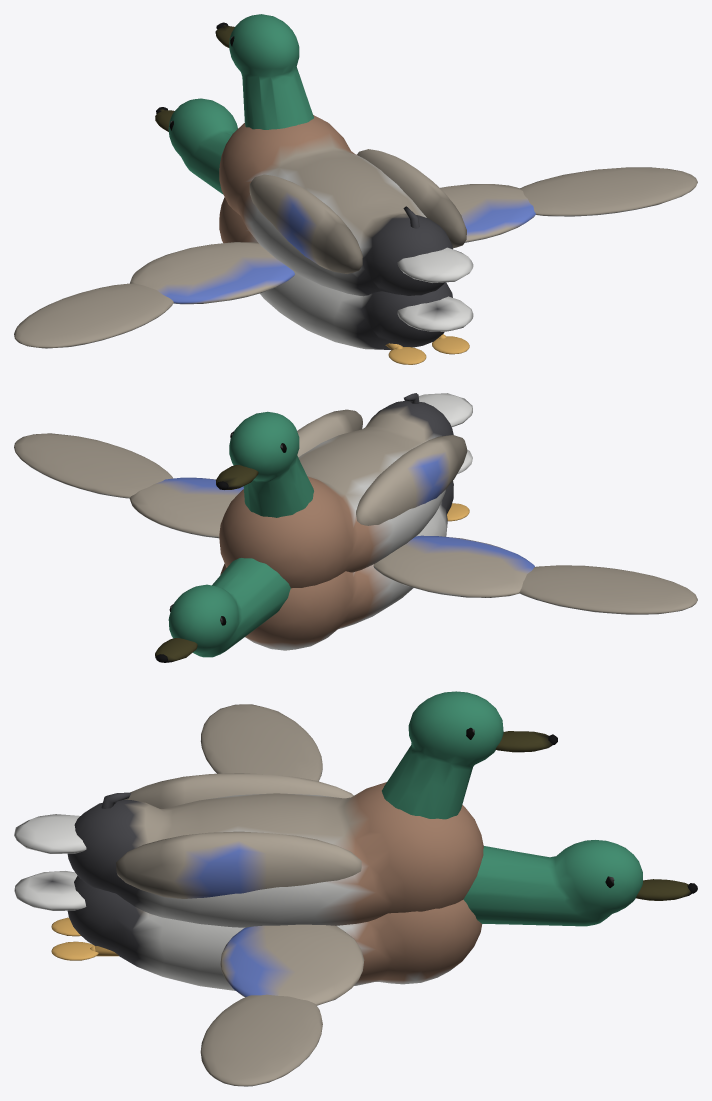
The model's file is duck_parts.glb.
The picture shows the model from 3 angles, top to bottom: view 1: azimuth 30°, elevation 25°; view 2: azimuth 150°, elevation 25°; view 3: azimuth 270°, elevation 25°; orthographic projection. The views are drawn at different scales.
Parts seen in each view (by area): view 1: BODY, BODY.001, WING_L, HEAD, WINGTIP_L__WING_L, WINGTIP_R__WING_R, BODY1, HEAD.001, WING_R, BODY3, TAIL, TAIL.001 (+2 smaller); view 2: BODY, BODY.001, HEAD.001, WING_L, WINGTIP_L__WING_L, WINGTIP_R__WING_R, HEAD, BODY1, WING_R, BODY3, TAIL, HEAD2__ (+1 smaller); view 3: BODY, BODY.001, BODY3, HEAD.001, HEAD, WING_R, WINGTIP_R__WING_R, WINGTIP_L__WING_L, BODY1, TAIL, TAIL.001, HEAD2__ (+2 smaller).
Boxes of the visible parts, x1,y1,x2,y2 form: BODY: [219, 115, 452, 296]; BODY.001: [219, 197, 452, 349]; WING_L: [130, 242, 294, 304]; HEAD: [229, 14, 313, 129]; WINGTIP_L__WING_L: [14, 283, 173, 348]; WINGTIP_R__WING_R: [520, 167, 697, 216]; BODY1: [249, 174, 362, 273]; HEAD.001: [168, 98, 237, 194]; WING_R: [440, 184, 535, 242]; BODY3: [357, 149, 466, 248]; TAIL: [397, 206, 473, 282]; TAIL.001: [397, 296, 473, 331]; BODY: [219, 401, 453, 588]; BODY.001: [220, 481, 453, 650]; HEAD.001: [168, 558, 290, 657]; WING_L: [373, 535, 534, 597]; WINGTIP_L__WING_L: [519, 565, 697, 614]; WINGTIP_R__WING_R: [14, 433, 173, 498]; HEAD: [229, 411, 313, 517]; BODY1: [356, 435, 467, 525]; WING_R: [130, 477, 243, 538]; BODY3: [297, 409, 362, 457]; TAIL: [404, 393, 472, 426]; HEAD2__: [216, 465, 258, 489]; BODY: [67, 782, 483, 927]; BODY.001: [67, 876, 482, 990]; BODY3: [116, 831, 361, 898]; HEAD.001: [463, 840, 642, 926]; HEAD: [382, 691, 503, 819]; WING_R: [220, 924, 364, 1005]; WINGTIP_R__WING_R: [200, 994, 322, 1086]; WINGTIP_L__WING_L: [200, 704, 322, 781]; BODY1: [124, 773, 353, 808]; TAIL: [14, 792, 130, 853]; TAIL.001: [14, 871, 86, 910]; HEAD2__: [495, 731, 557, 752].
Bounding box in the file's own units: 0.9361 × 0.3273 × 0.7099.
